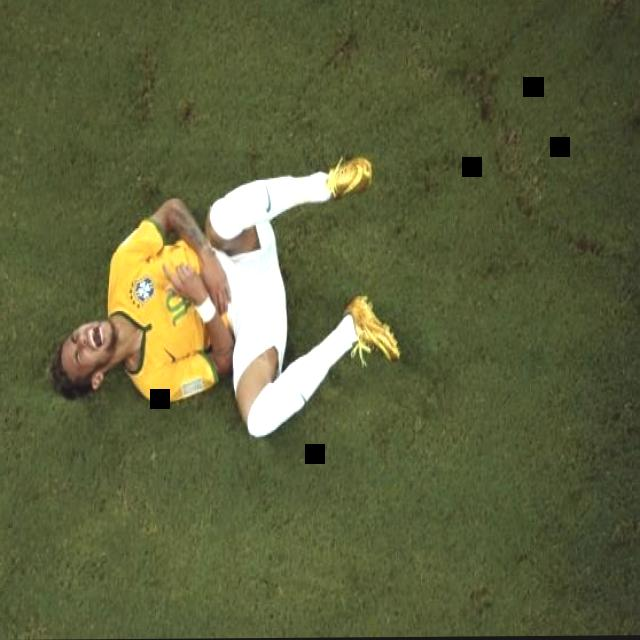Fall-Detected: (34, 132, 408, 448)
